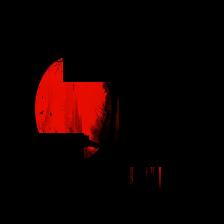red: (35, 52, 111, 160)
